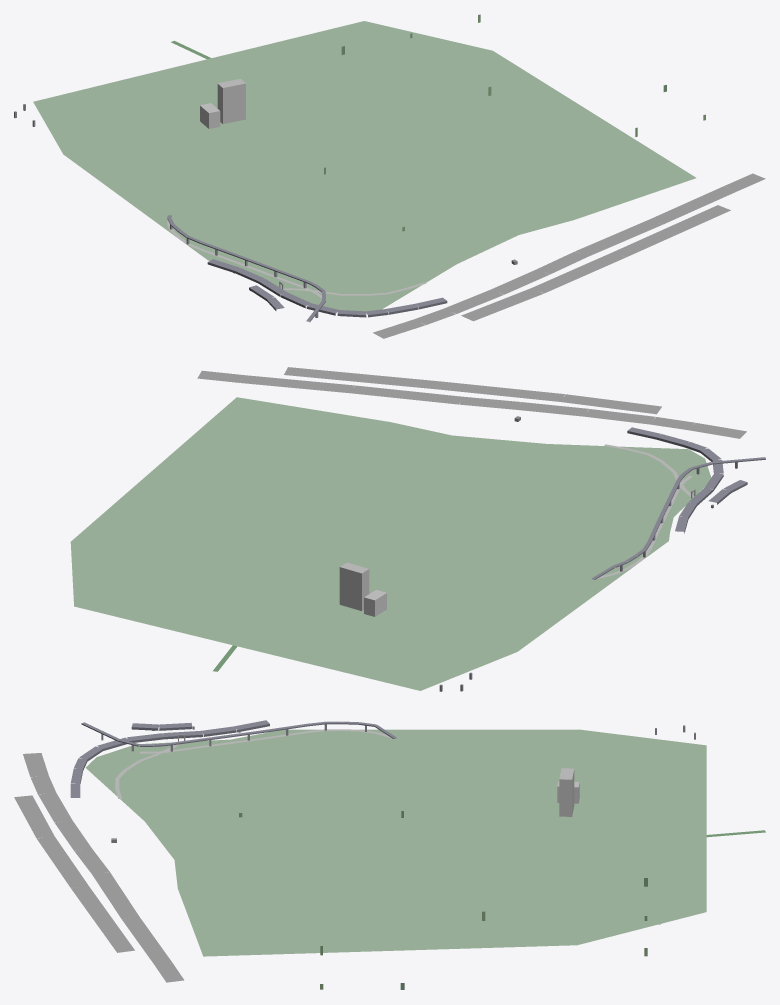
3 renders of one model, top to bottom at view 1: azimuth 30°, elevation 25°; view 2: azimuth 150°, elevation 25°; view 3: azimuth 270°, elevation 25°, orthographic. The views are drawn at different scales.
Bounding box in the file's own units: 463 × 31.72 × 557.
